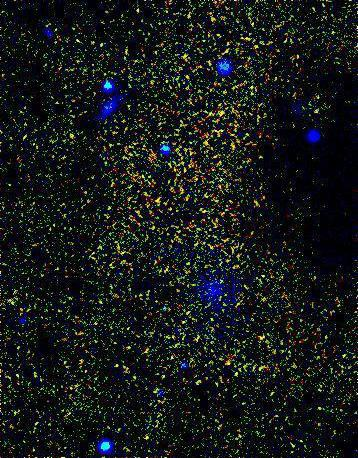star: (57, 121, 87, 151)
